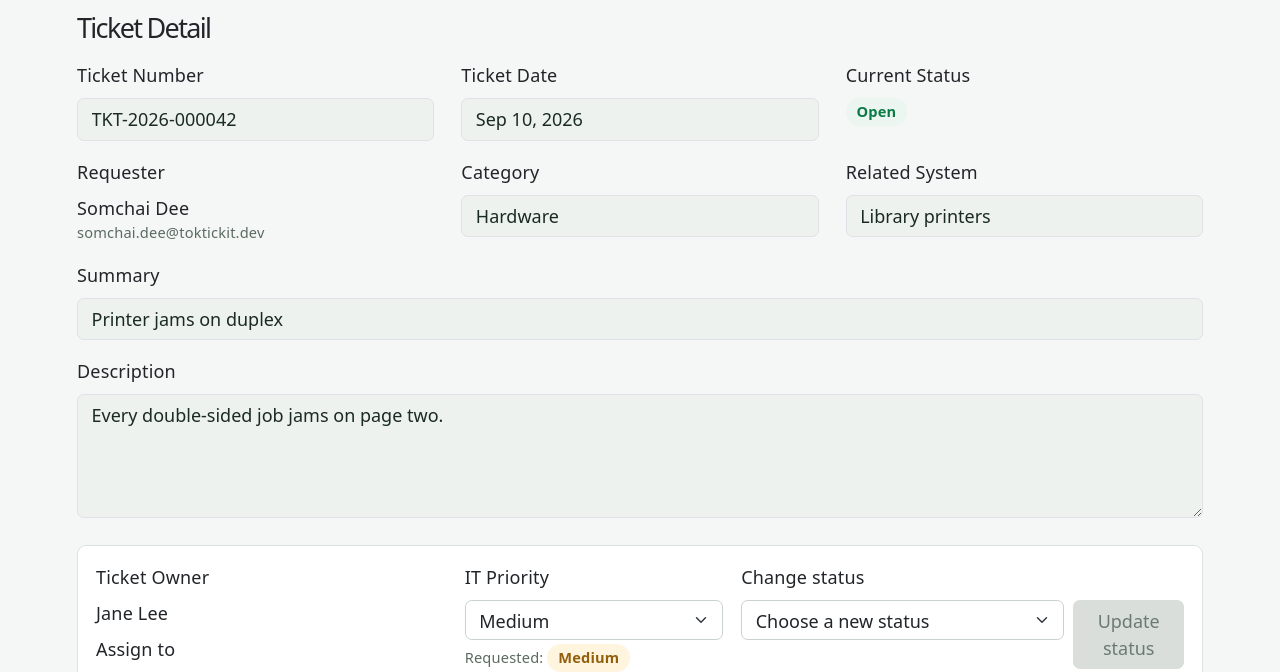
StaffTicketDetail › ownership and IT Priority › saves IT Priority when it changes
Select "High" in the dropdown labelled "IT Priority" at (594, 620), box [465,600,723,640]
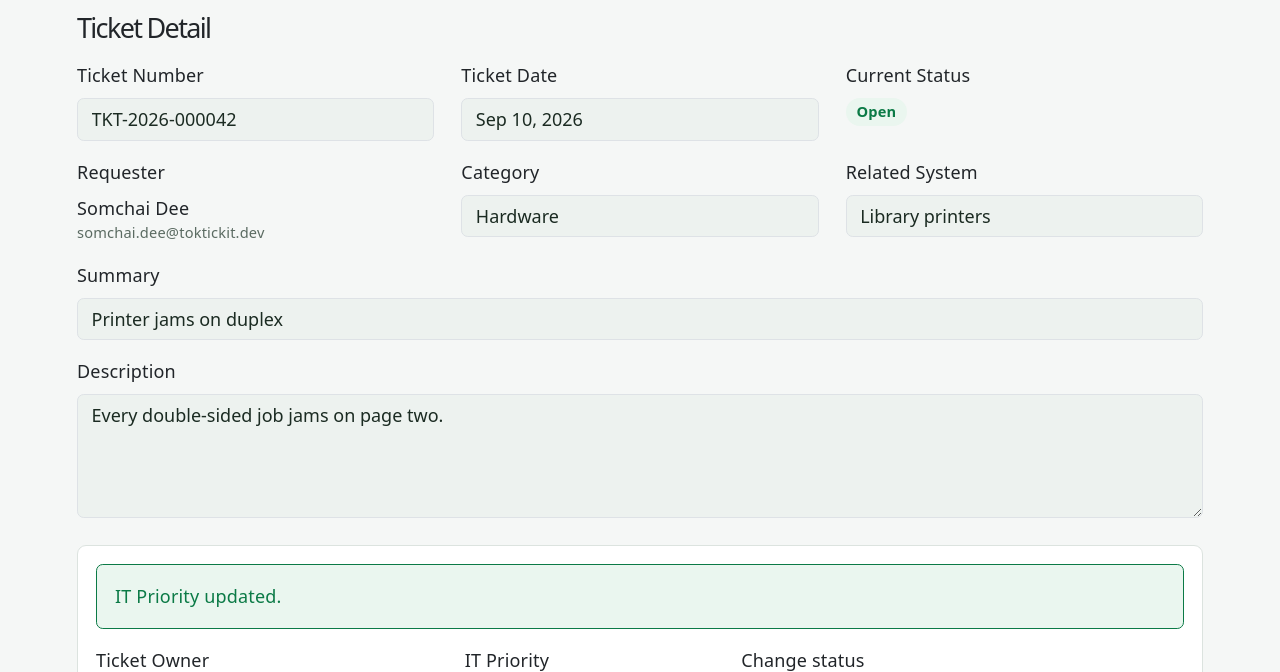
Expected: the message shows "IT Priority updated", [115,584,282,608]
